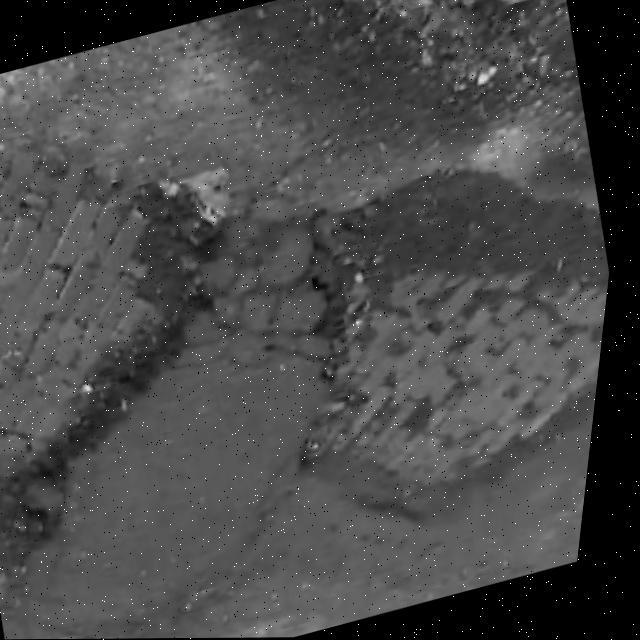pothole: (0, 81, 276, 532), (258, 210, 621, 538)
